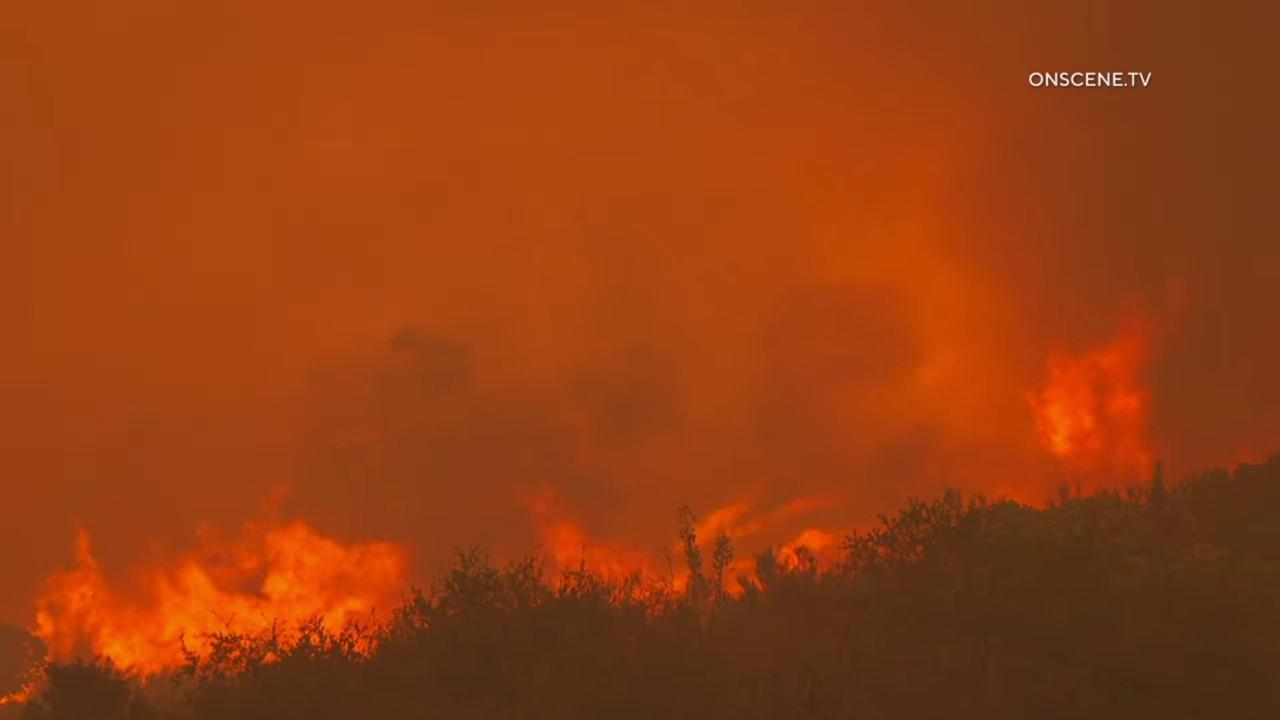fire: (0, 483, 432, 707), (980, 276, 1280, 519), (511, 459, 881, 611)
smoke: (0, 0, 1280, 720)
